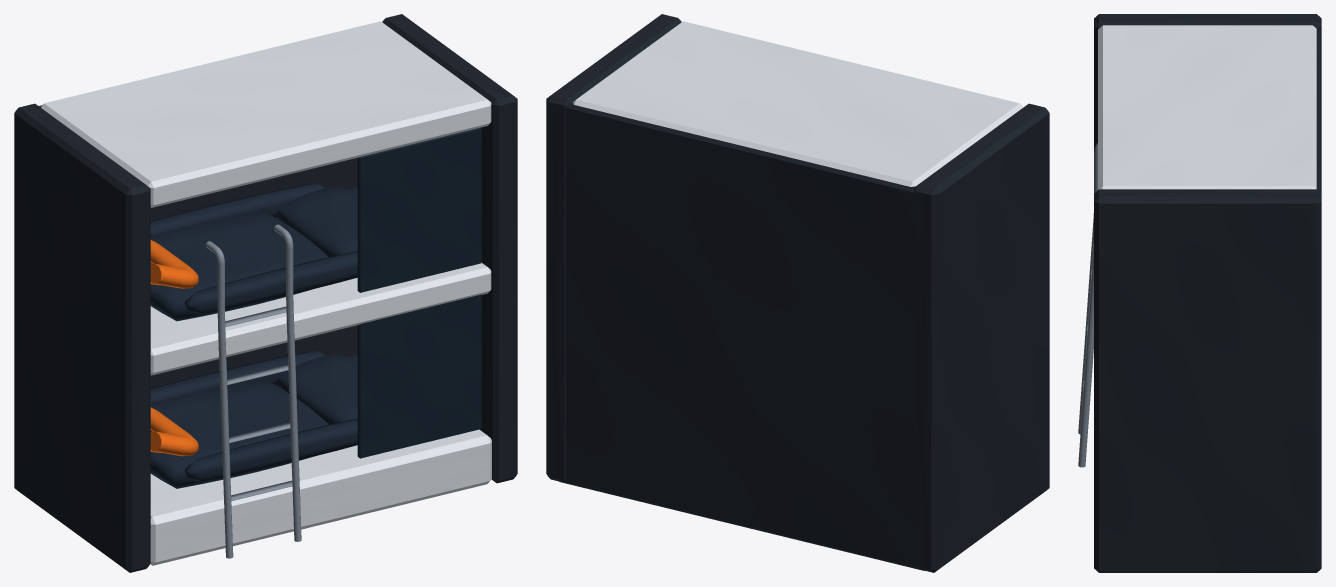
The model's file is bunk_r1_07.glb.
3 renders of one model, left to right at view 1: azimuth 30°, elevation 25°; view 2: azimuth 150°, elevation 25°; view 3: azimuth 270°, elevation 25°, orthographic. The views are drawn at different scales.
Parts seen in each view (by area): view 1: CorvetteRack_AerospaceCompositeTubes, CorvetteRack_GunmetalBulkheadFrame, CorvetteRack_DualFlightCouches, CorvetteRack_SmokedPrivacyShields, CorvetteRack_TitaniumBoardingLadder, CorvetteRack_DualCranialCradles; view 2: CorvetteRack_GunmetalBulkheadFrame, CorvetteRack_AerospaceCompositeTubes; view 3: CorvetteRack_GunmetalBulkheadFrame, CorvetteRack_AerospaceCompositeTubes, CorvetteRack_TitaniumBoardingLadder.
Boxes of the visible parts, box(x1,y1,x2,y2) form: CorvetteRack_AerospaceCompositeTubes: box(41, 21, 491, 565); CorvetteRack_GunmetalBulkheadFrame: box(14, 14, 517, 572); CorvetteRack_DualFlightCouches: box(150, 183, 357, 488); CorvetteRack_SmokedPrivacyShields: box(357, 127, 481, 458); CorvetteRack_TitaniumBoardingLadder: box(205, 224, 301, 558); CorvetteRack_DualCranialCradles: box(150, 240, 198, 456); CorvetteRack_GunmetalBulkheadFrame: box(546, 14, 1049, 572); CorvetteRack_AerospaceCompositeTubes: box(572, 21, 1022, 186); CorvetteRack_GunmetalBulkheadFrame: box(1094, 14, 1321, 572); CorvetteRack_AerospaceCompositeTubes: box(1098, 25, 1316, 189); CorvetteRack_TitaniumBoardingLadder: box(1078, 143, 1097, 467).
Bounding box in the file's own units: 2.18 × 2.04 × 1.2.
8 materials, 8 textured.
